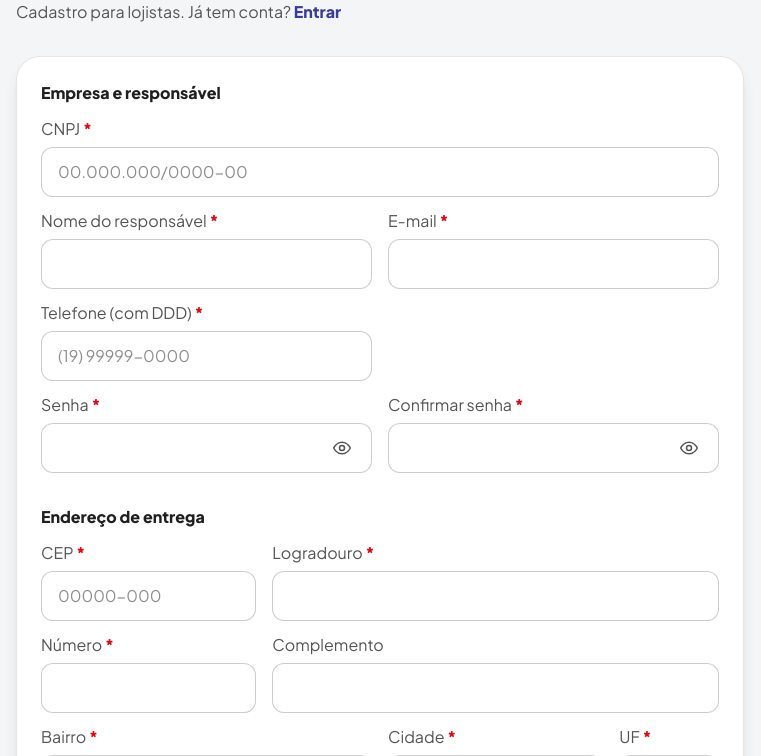
Test: Cadastro: avisos nos campos obrigatórios › senha curta e senhas diferentes recebem aviso
Type "abc12" into the password field labelled "Senha *" at [206, 448], box [41,423,372,473]
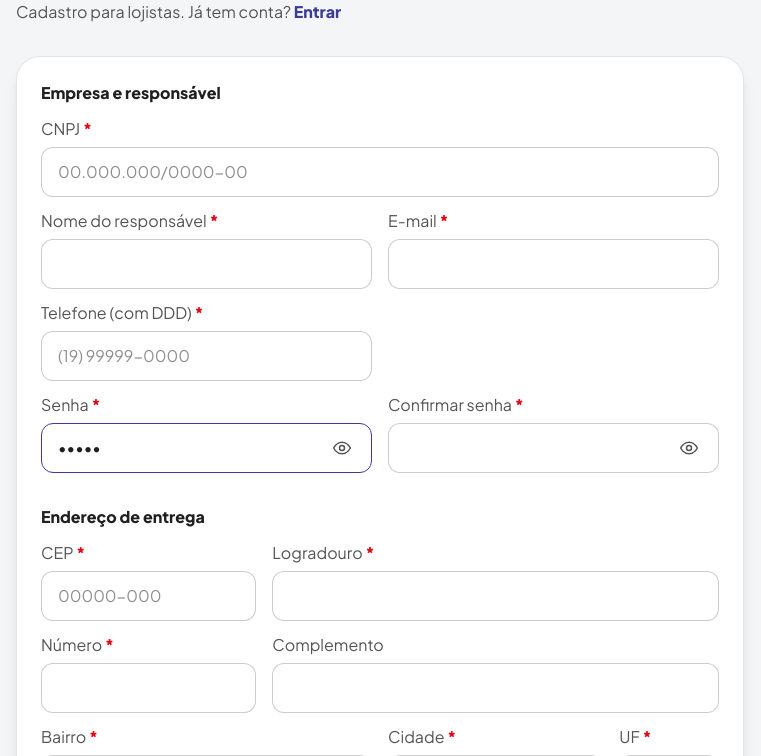
Type "outra" into the password field labelled "Confirmar senha *" at [554, 448], box [388,423,719,473]
(page scrolled)
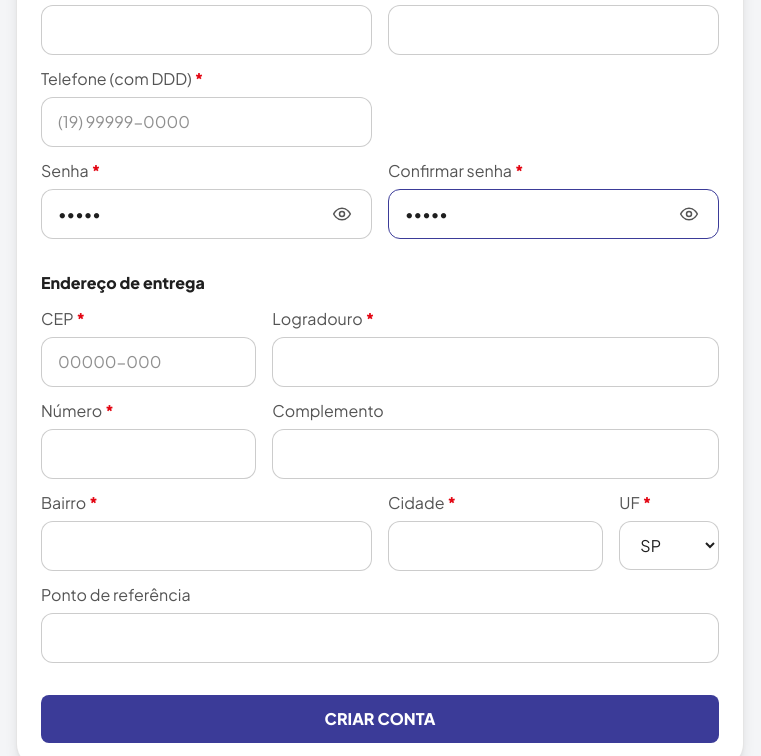
Click the button "Criar conta" at [380, 719], box [41,695,719,743]
(page scrolled)
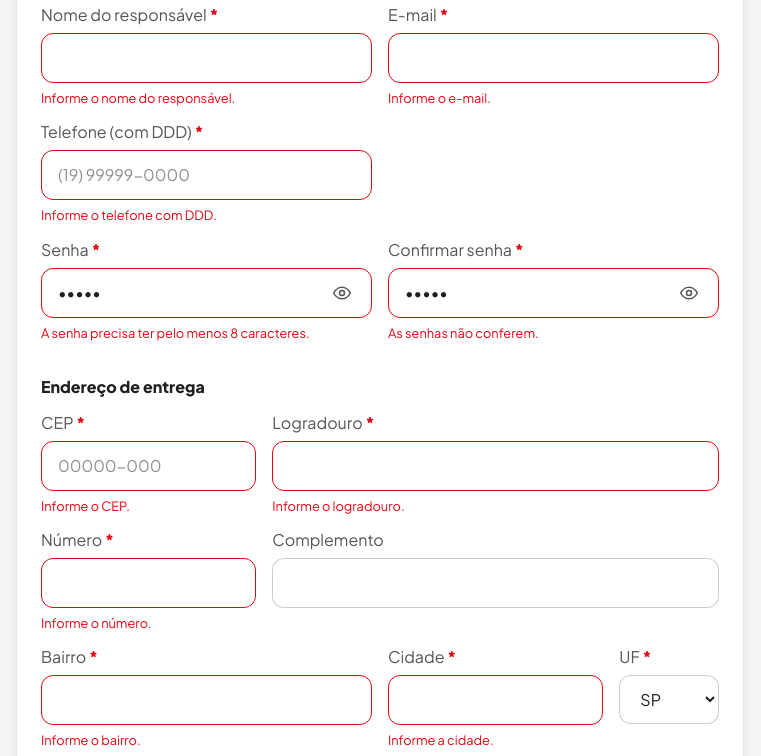
Expected: the text "A senha precisa ter pelo menos 8 caracteres." is shown, [41,325,310,341]
Expected: the text "As senhas não conferem." is shown, [388,325,539,341]
